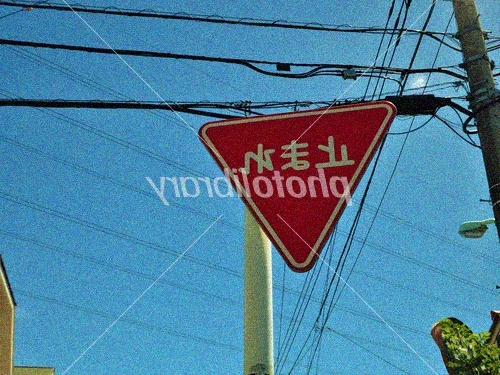Regulatory_sign_triangle: (188, 89, 415, 260)
